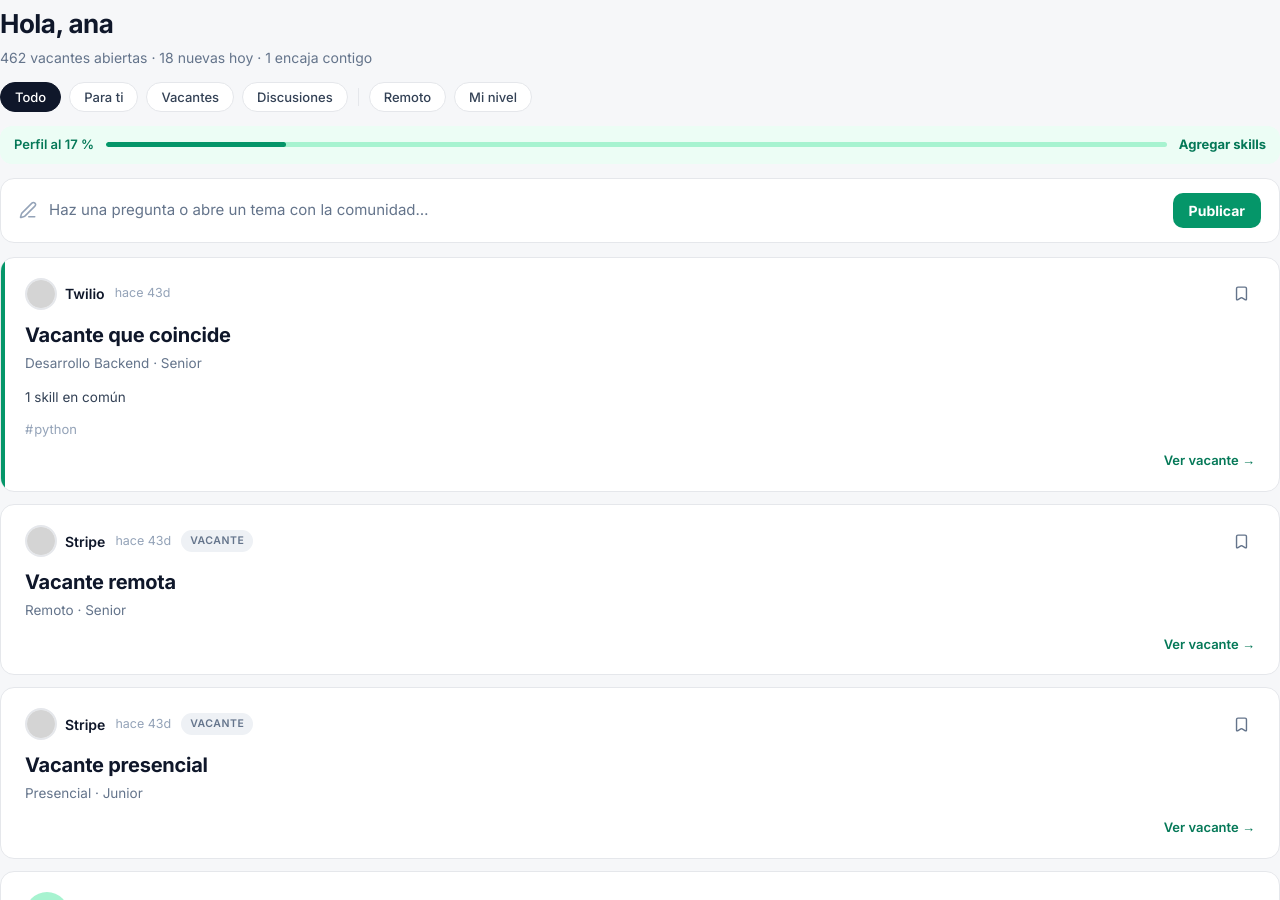
Scenario: la cabecera y los filtros del feed › "Para ti" muestra solo lo que encaja y "Mi nivel" solo vacantes de tu nivel
This screenshot has width=1280, height=900.
(page scrolled)
Expected: the heading "Vacante que coincide" is shown, x1=25 y1=322 x2=231 y2=346
Step 1. Click the button "Para ti" → click(104, 97), box x1=69 y1=82 x2=138 y2=112
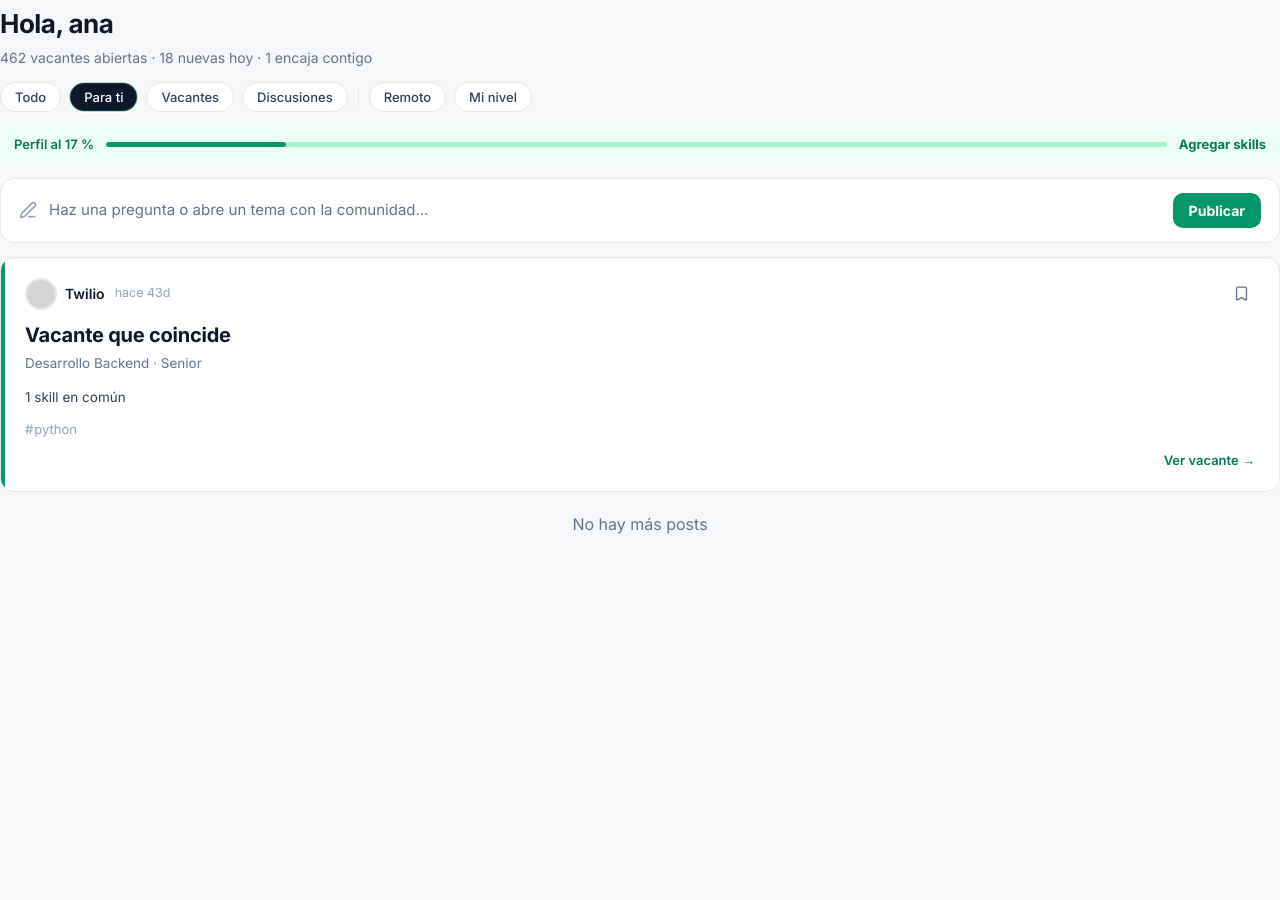
Expected: the heading "Vacante que coincide" is shown, x1=25 y1=322 x2=231 y2=346
Expected: the heading "Vacante remota" is gone
Step 2. Click the button "Todo" → click(31, 97), box x1=0 y1=82 x2=61 y2=112
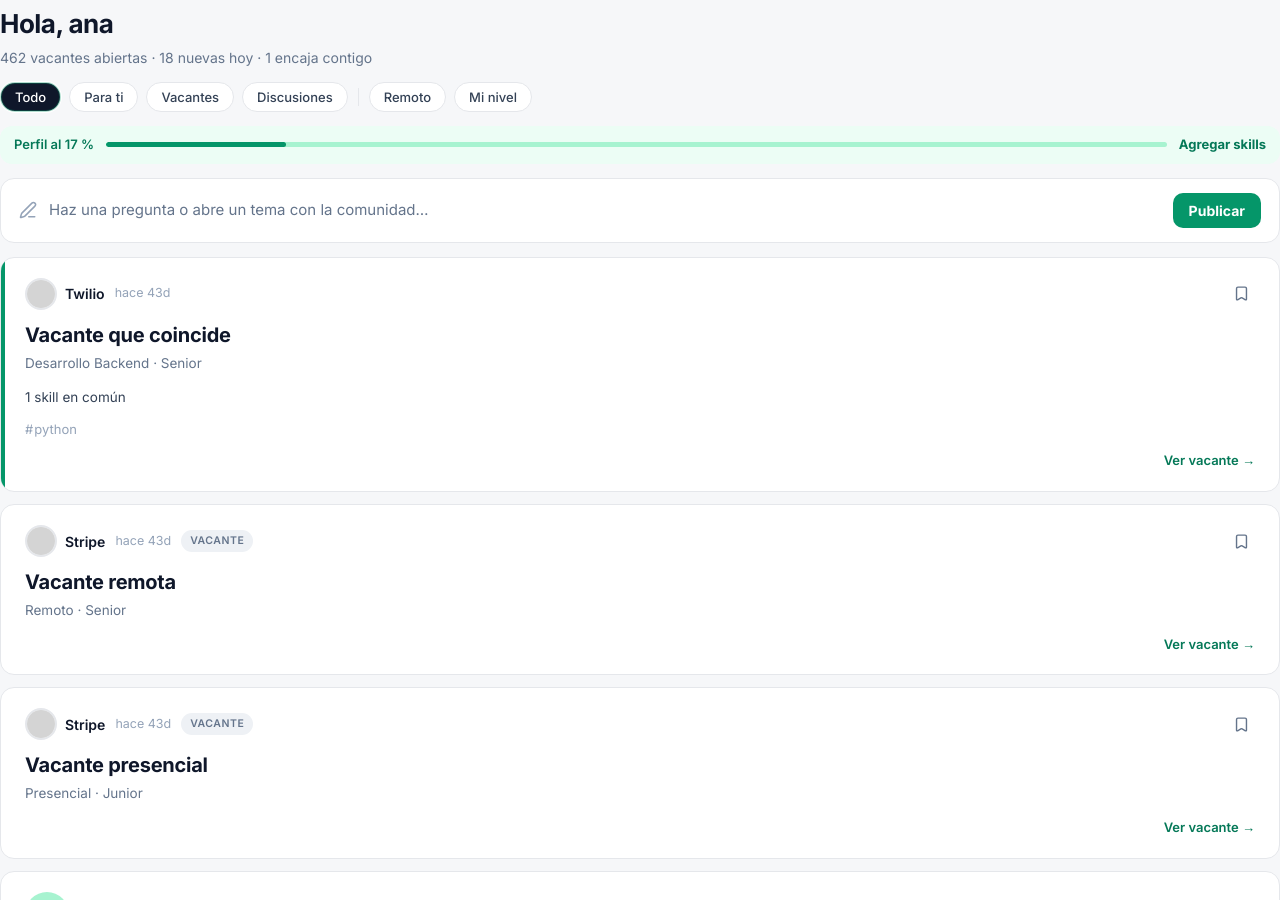
Step 3. Click the button "Mi nivel" → click(493, 97), box x1=454 y1=82 x2=532 y2=112
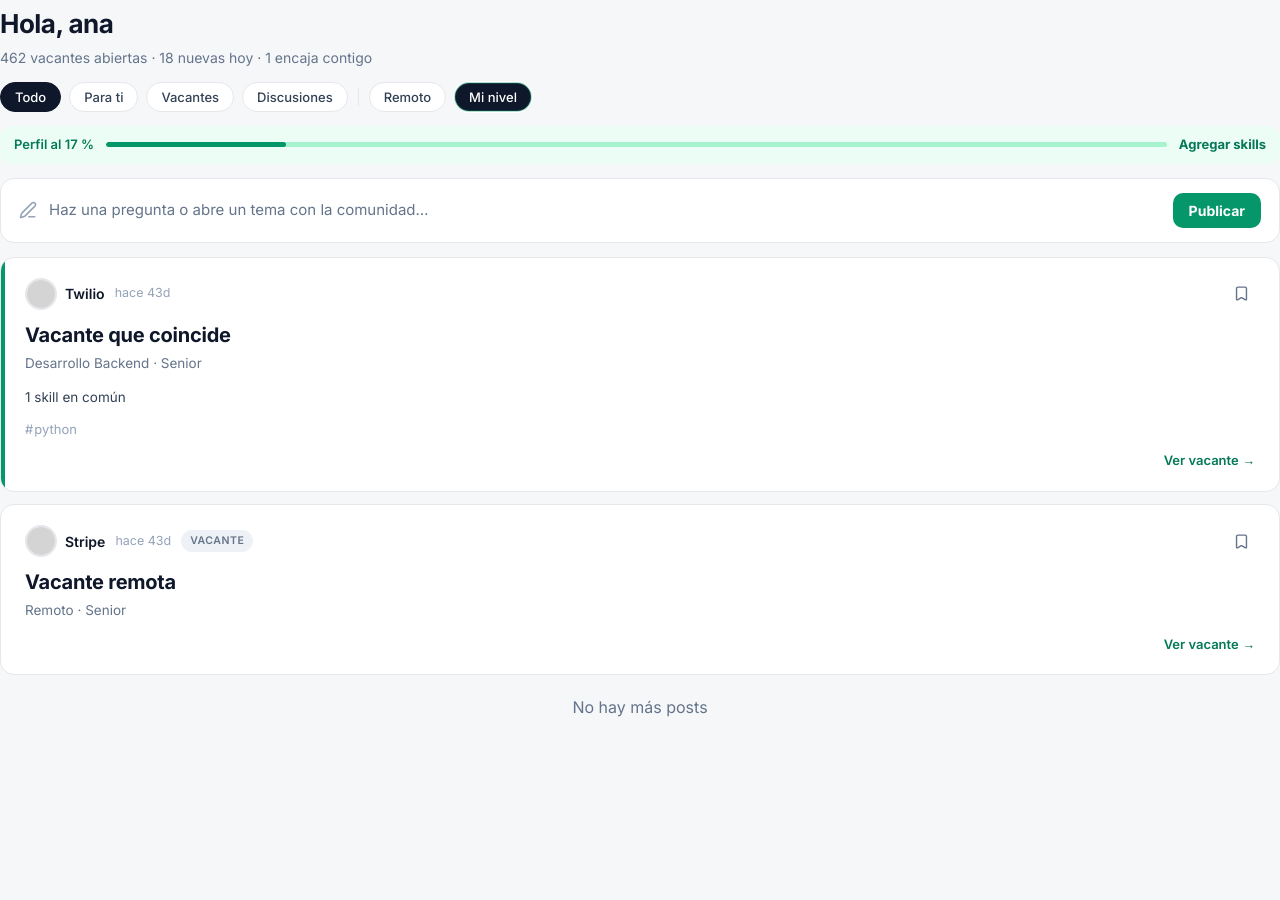
Expected: the heading "Vacante remota" is shown, x1=25 y1=570 x2=176 y2=594
Expected: the heading "Vacante presencial" is gone
